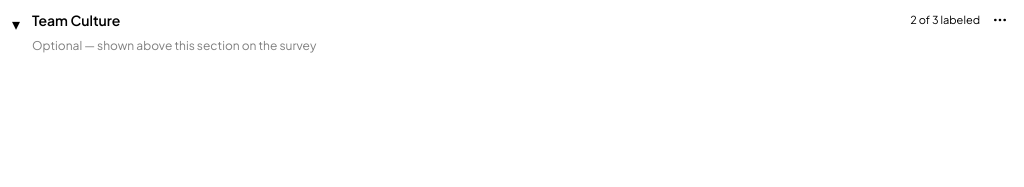
Test: FormSectionCard — ⋯ overflow menu › is closed by default and opens on click, revealing all four actions
What coordinates should you click on to do the following:
click the button with test id "section-menu-S1"
I would click on:
 (1000, 20)
Its box is x1=988 y1=8 x2=1012 y2=32.
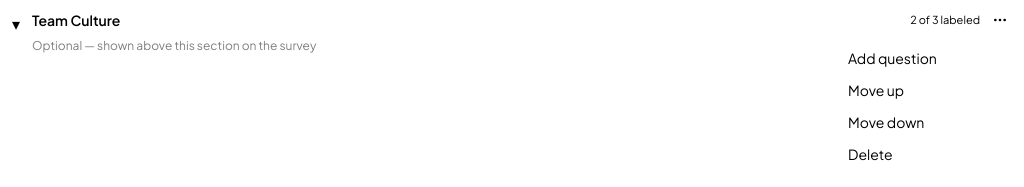
Expected: the button with test id "section-menu-S1-add-question" is shown, x1=840 y1=42 x2=1008 y2=74
Expected: the button with test id "section-menu-S1-move-up" is shown, x1=840 y1=74 x2=1008 y2=106
Expected: the button with test id "section-menu-S1-move-down" is shown, x1=840 y1=106 x2=1008 y2=138
